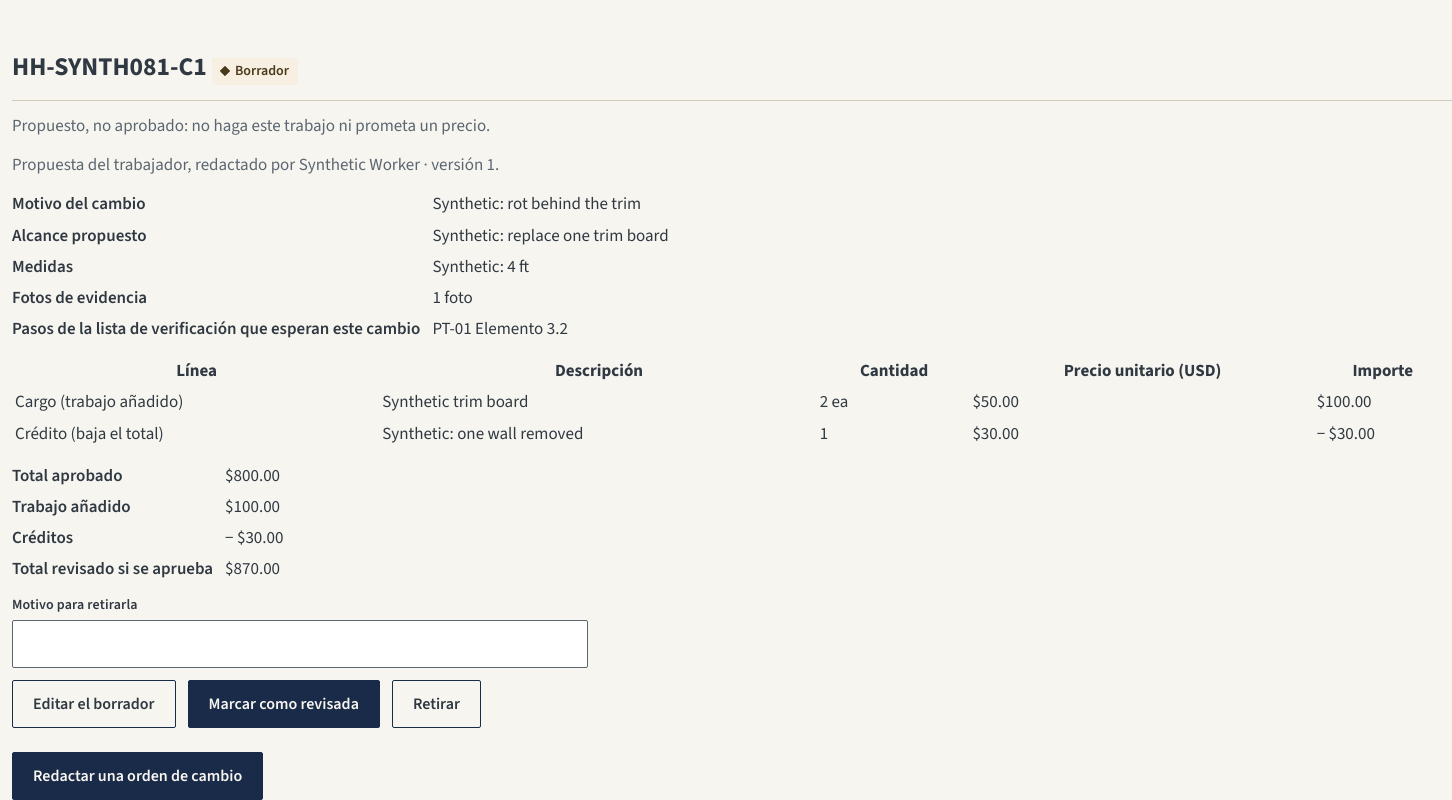
ChangeOrdersPage (TSK-0081) › [HH-CHG-01] an estimator reviews with If-Match; a refused review says why, in Spanish
(page scrolled)
Step 1. Click the button "Marcar como revisada" → {"x": 284, "y": 704}, box [188,680,380,728]
(page scrolled)
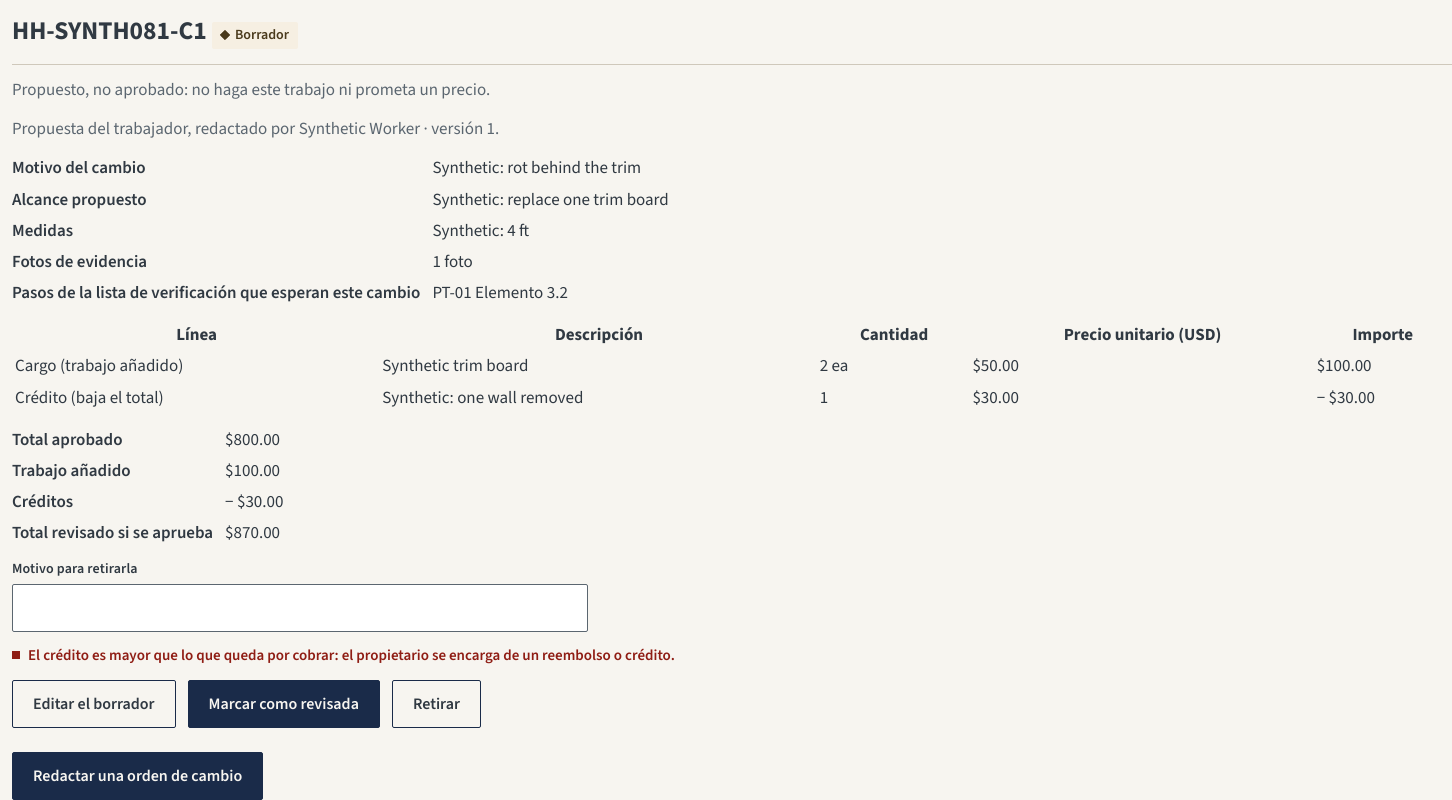
Expected: the message shows "El crédito es mayor que lo que queda por cobrar: el propietario se encarga de un reembolso o crédito.", [28,645,675,666]
# Staff choose the origin of a new draft.
Step 2. Click the button "Redactar una orden de cambio" → {"x": 138, "y": 776}, box [12,752,263,799]
(page scrolled)
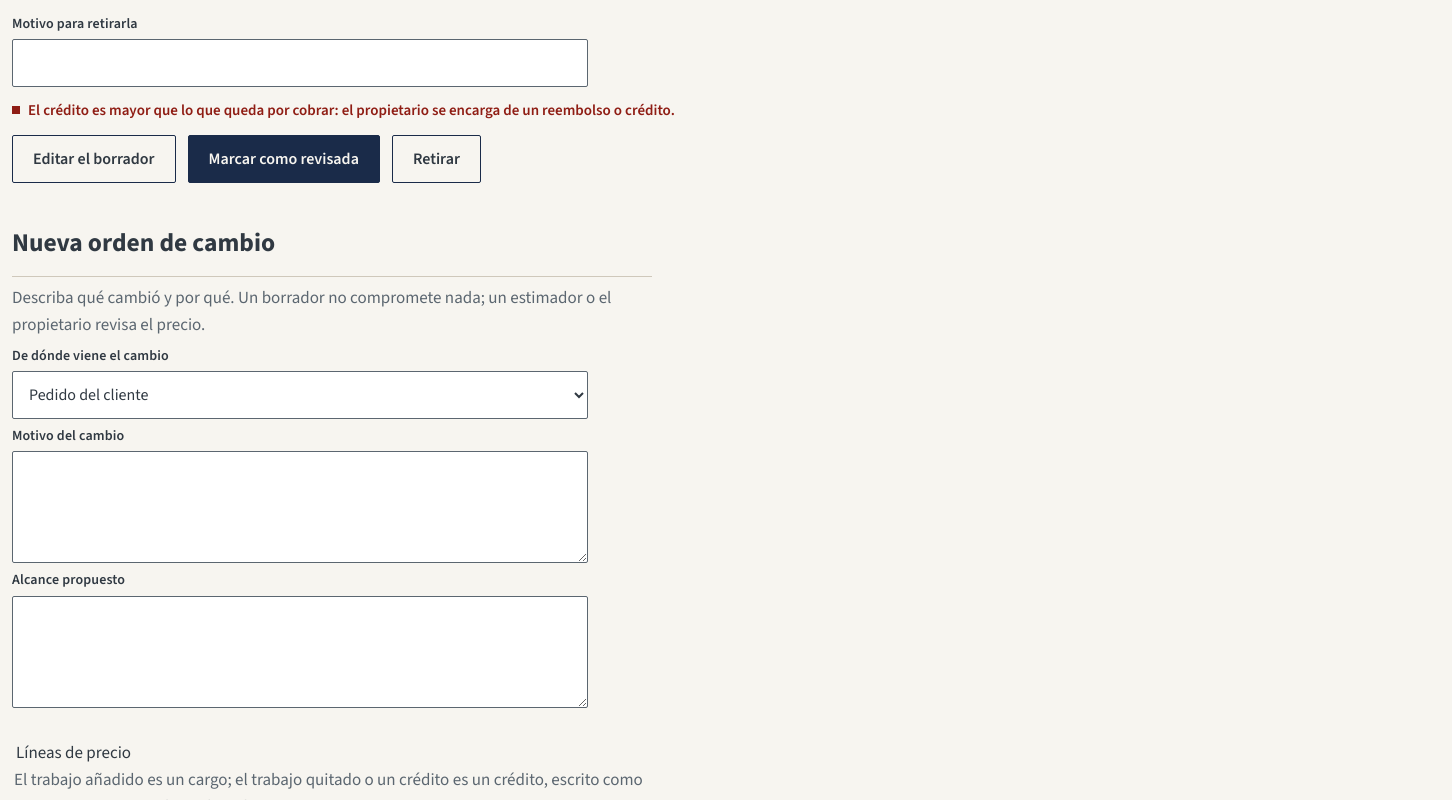
Expected: the dropdown labelled "De dónde viene el cambio" is shown, [12,371,588,419]
